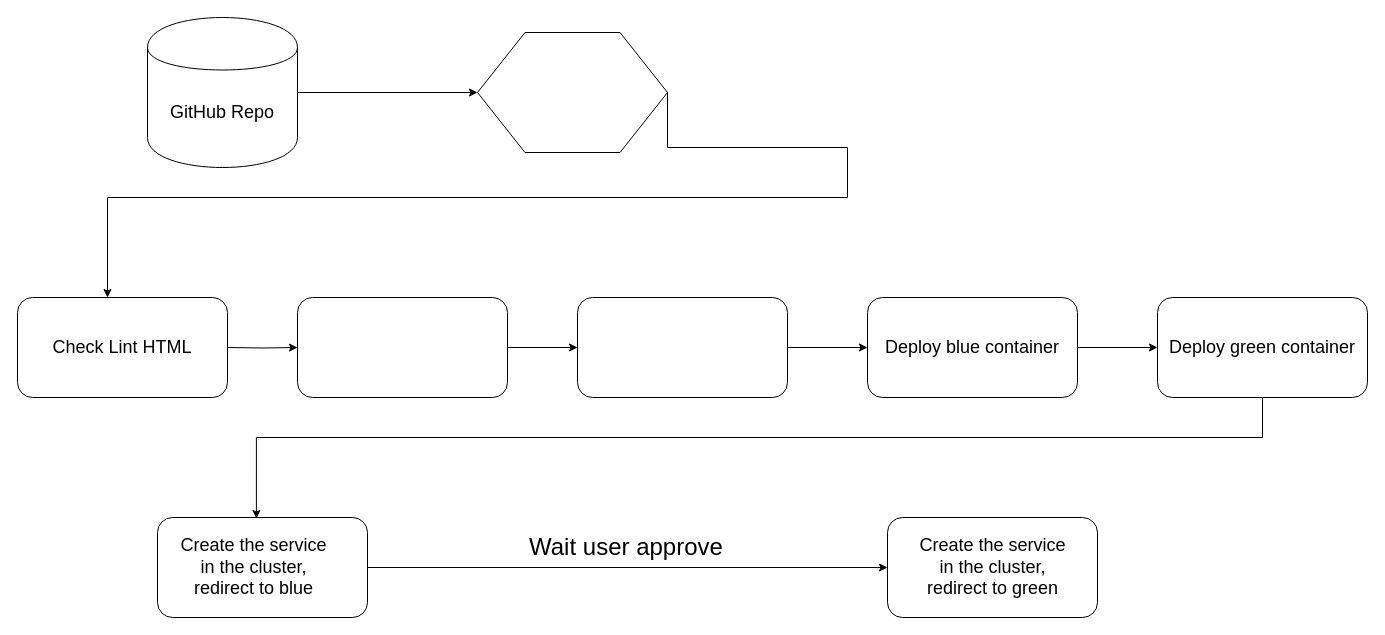
This 1385x635 diagram has some shape labels left out. Each missing label, with the box of its shape:
Build Docker Image: (296, 296, 508, 398)
Jenkins CI/CD: (476, 32, 668, 152)
Push Docker Image: (576, 296, 788, 398)
